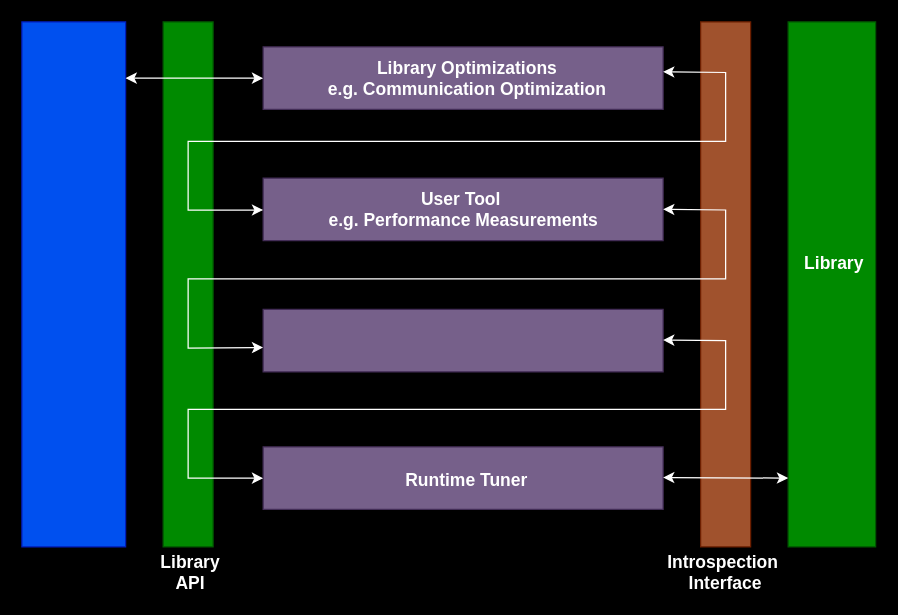
The diagram is 898 pixels wide and 615 high, and some of its shapes have lost their labels. The centre of each missing label's shape, as x and y in pixels:
"Application" goes at point (73, 284).
"System Monitor" goes at point (462, 340).
